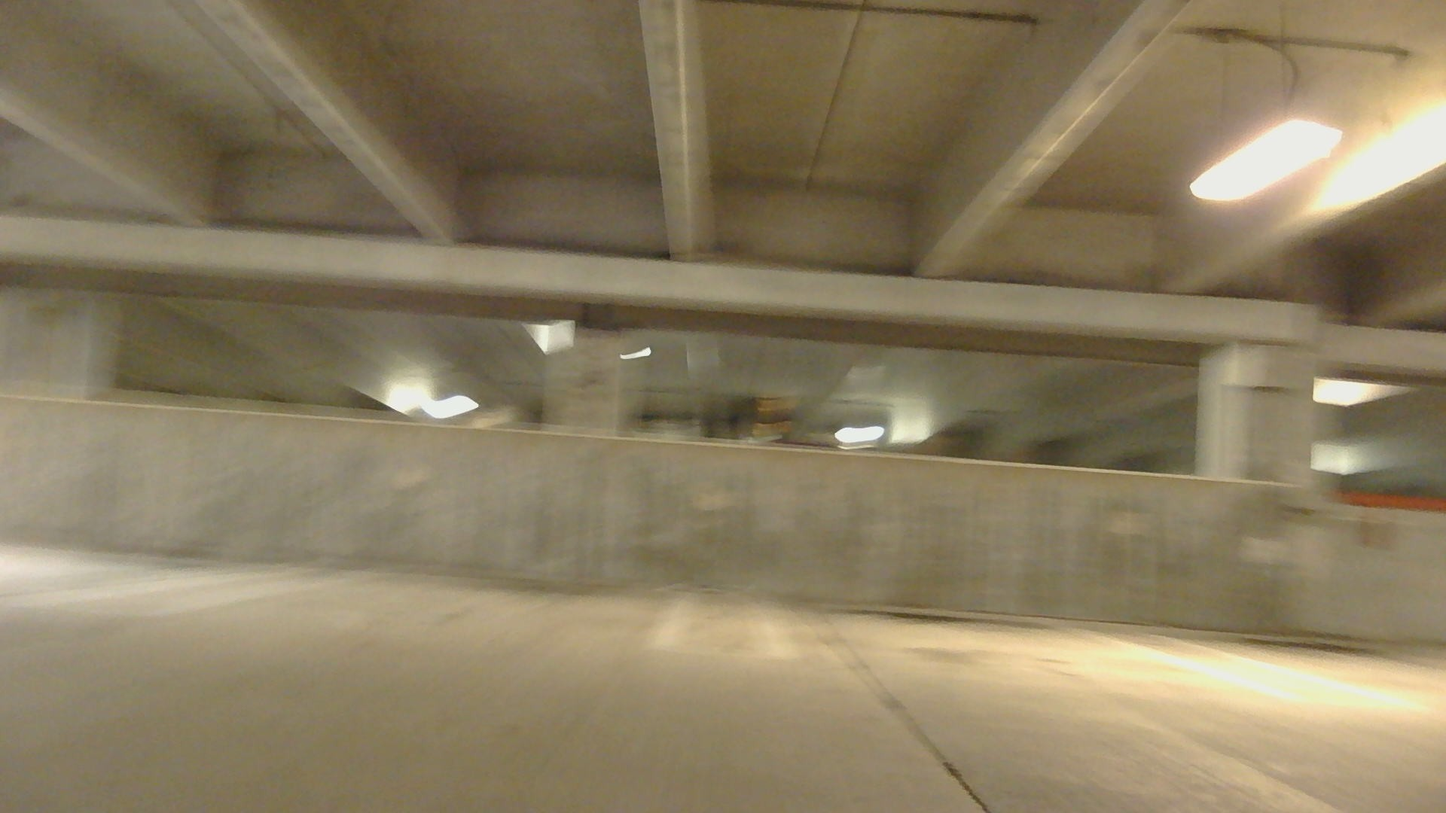empty_spot: (741, 509, 1358, 710), (63, 467, 707, 657), (1113, 502, 1446, 721), (0, 519, 329, 622)
